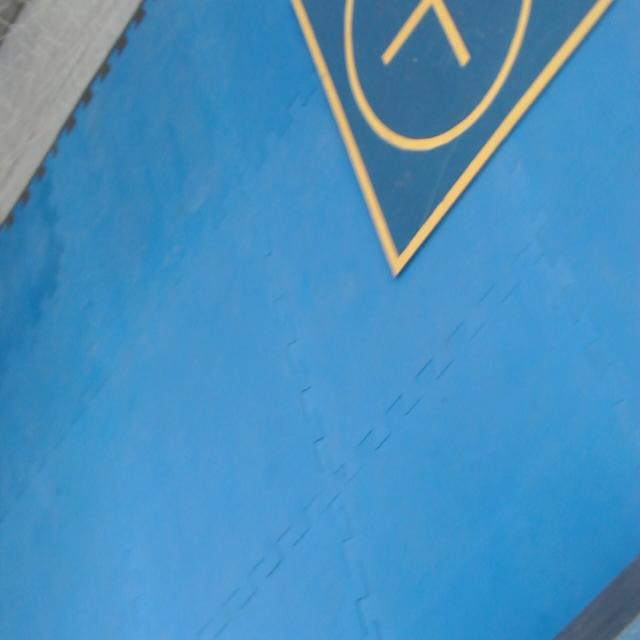base_pouso: (287, 0, 619, 279)
